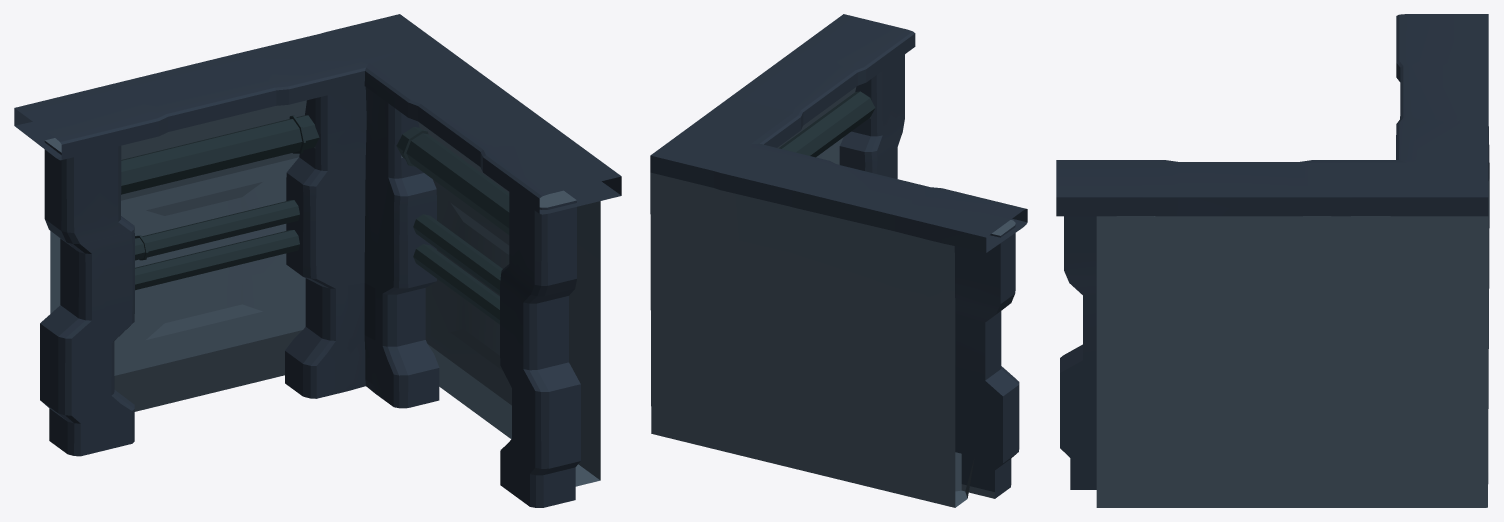
Rendered from SM_wall_corner.fbx.
3 views of the same model, side by side, from view 1: azimuth 30°, elevation 25°; view 2: azimuth 150°, elevation 25°; view 3: azimuth 270°, elevation 25° (orthographic). The views are drawn at different scales.
Visible parts, largest first — view 1: Wall - OuterCorner; view 2: Wall - OuterCorner; view 3: Wall - OuterCorner.
Boxes of the visible parts, left/top/right/bottom form: Wall - OuterCorner: left=14, top=14, right=621, bottom=507; Wall - OuterCorner: left=650, top=14, right=1027, bottom=507; Wall - OuterCorner: left=1056, top=14, right=1489, bottom=507.
Size of the model in its own units: 469 by 371 by 468.
